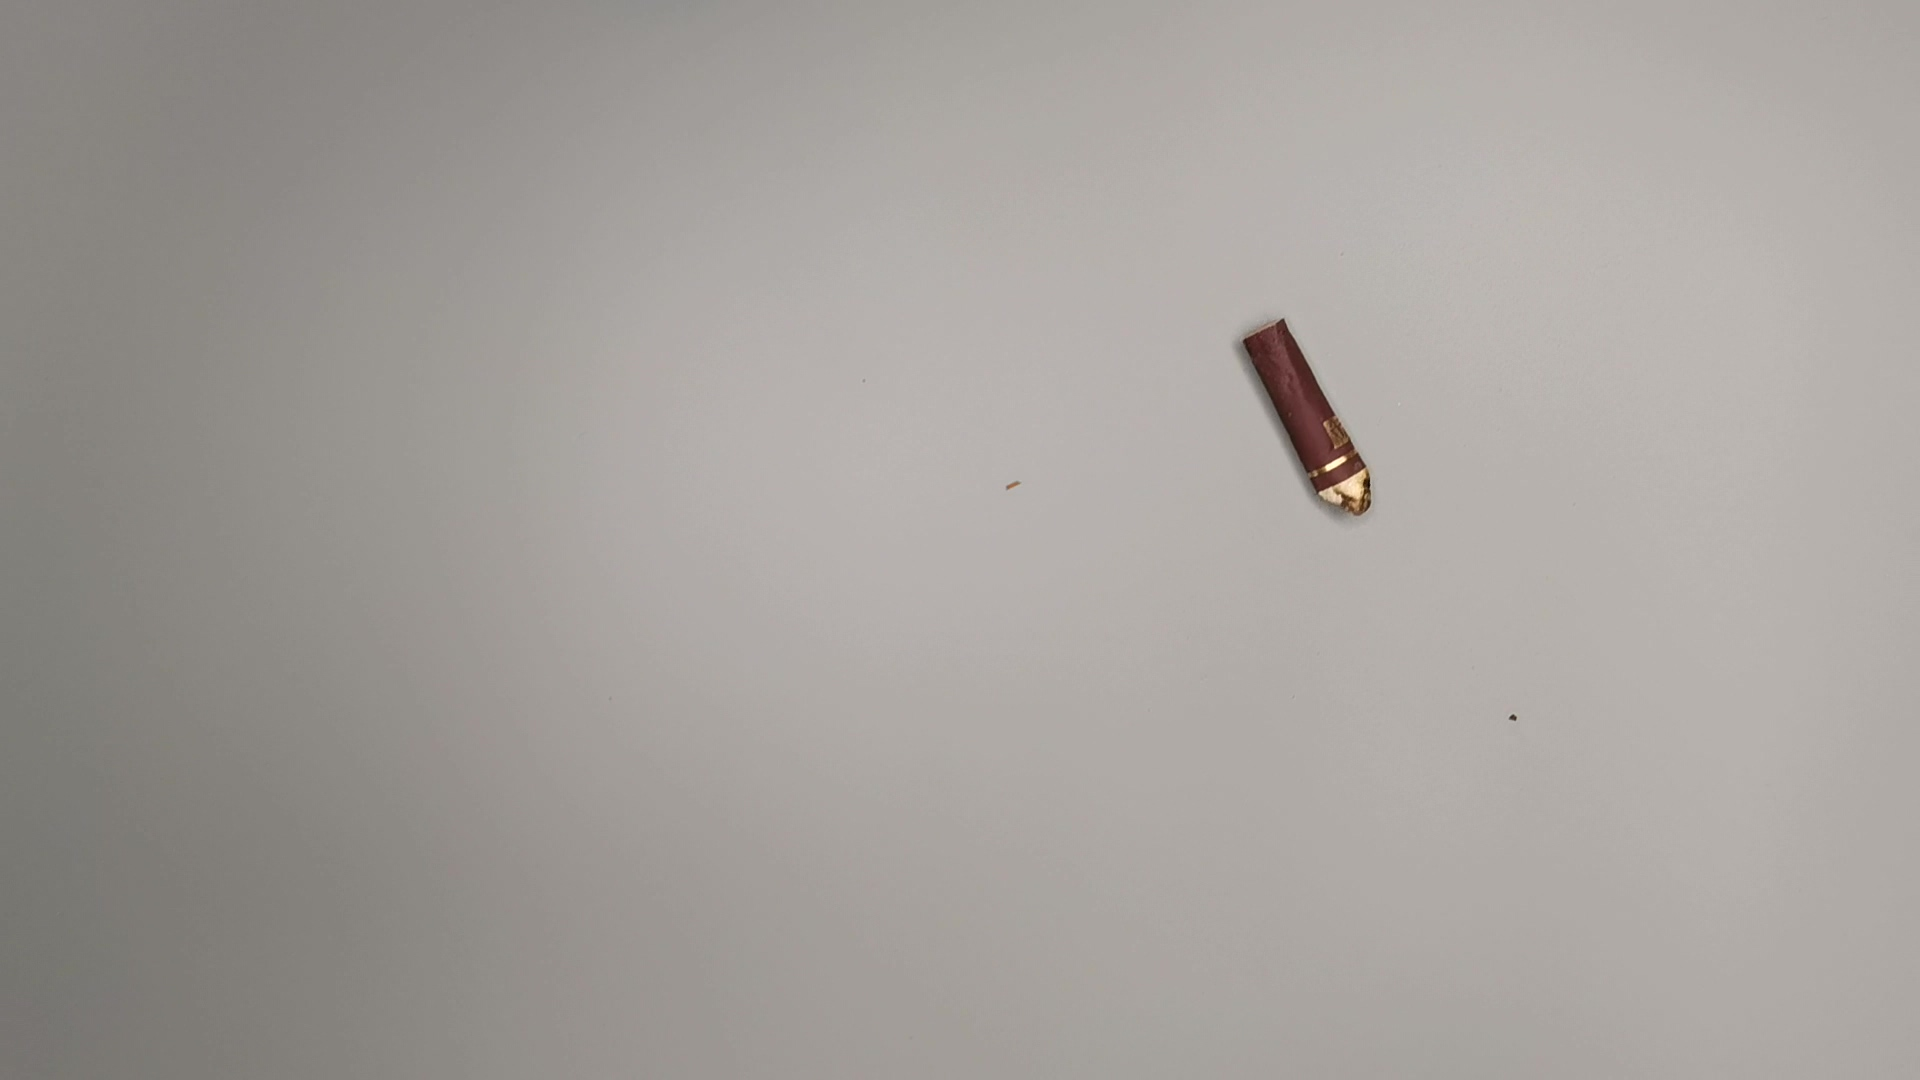cigarette: (1233, 313, 1382, 527)
